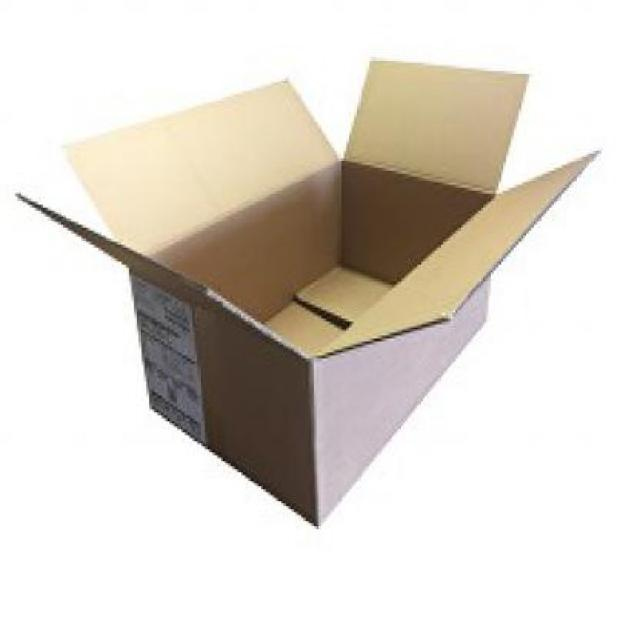box: (34, 58, 566, 525)
